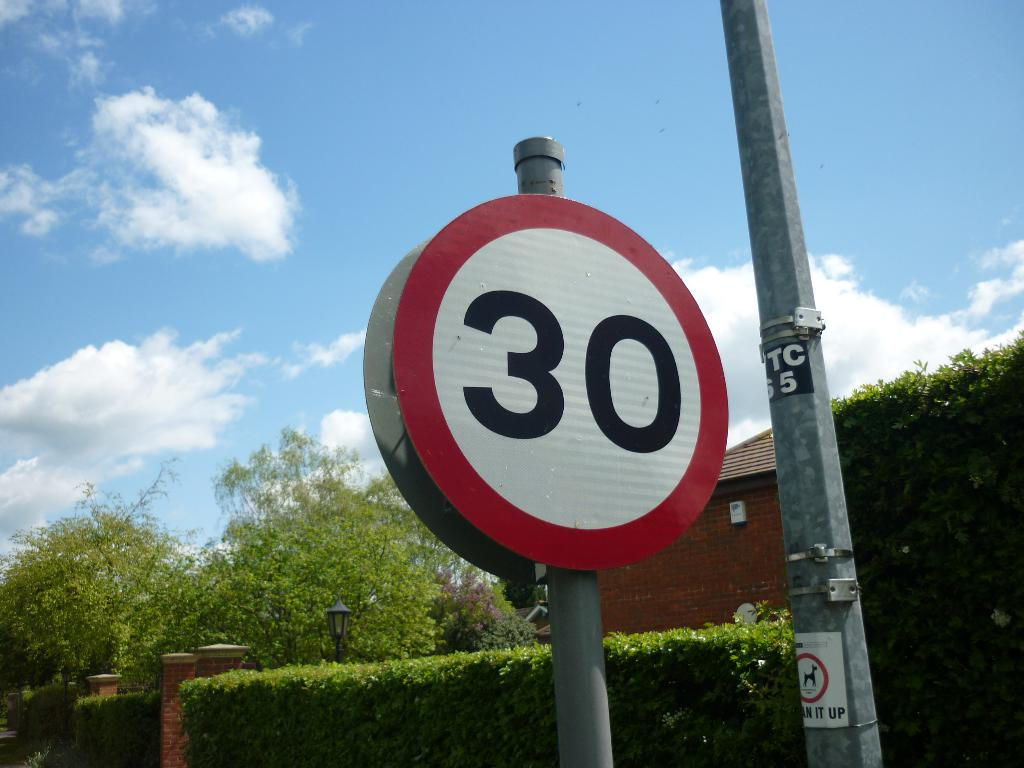speed_limit_30: (397, 195, 734, 573)
